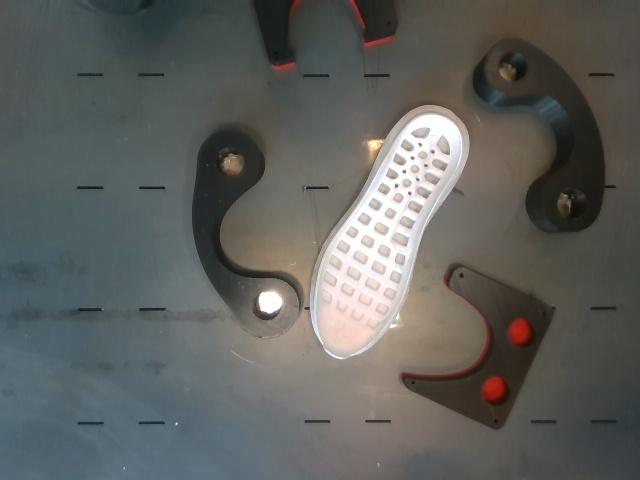shoes: (316, 114, 462, 359)
